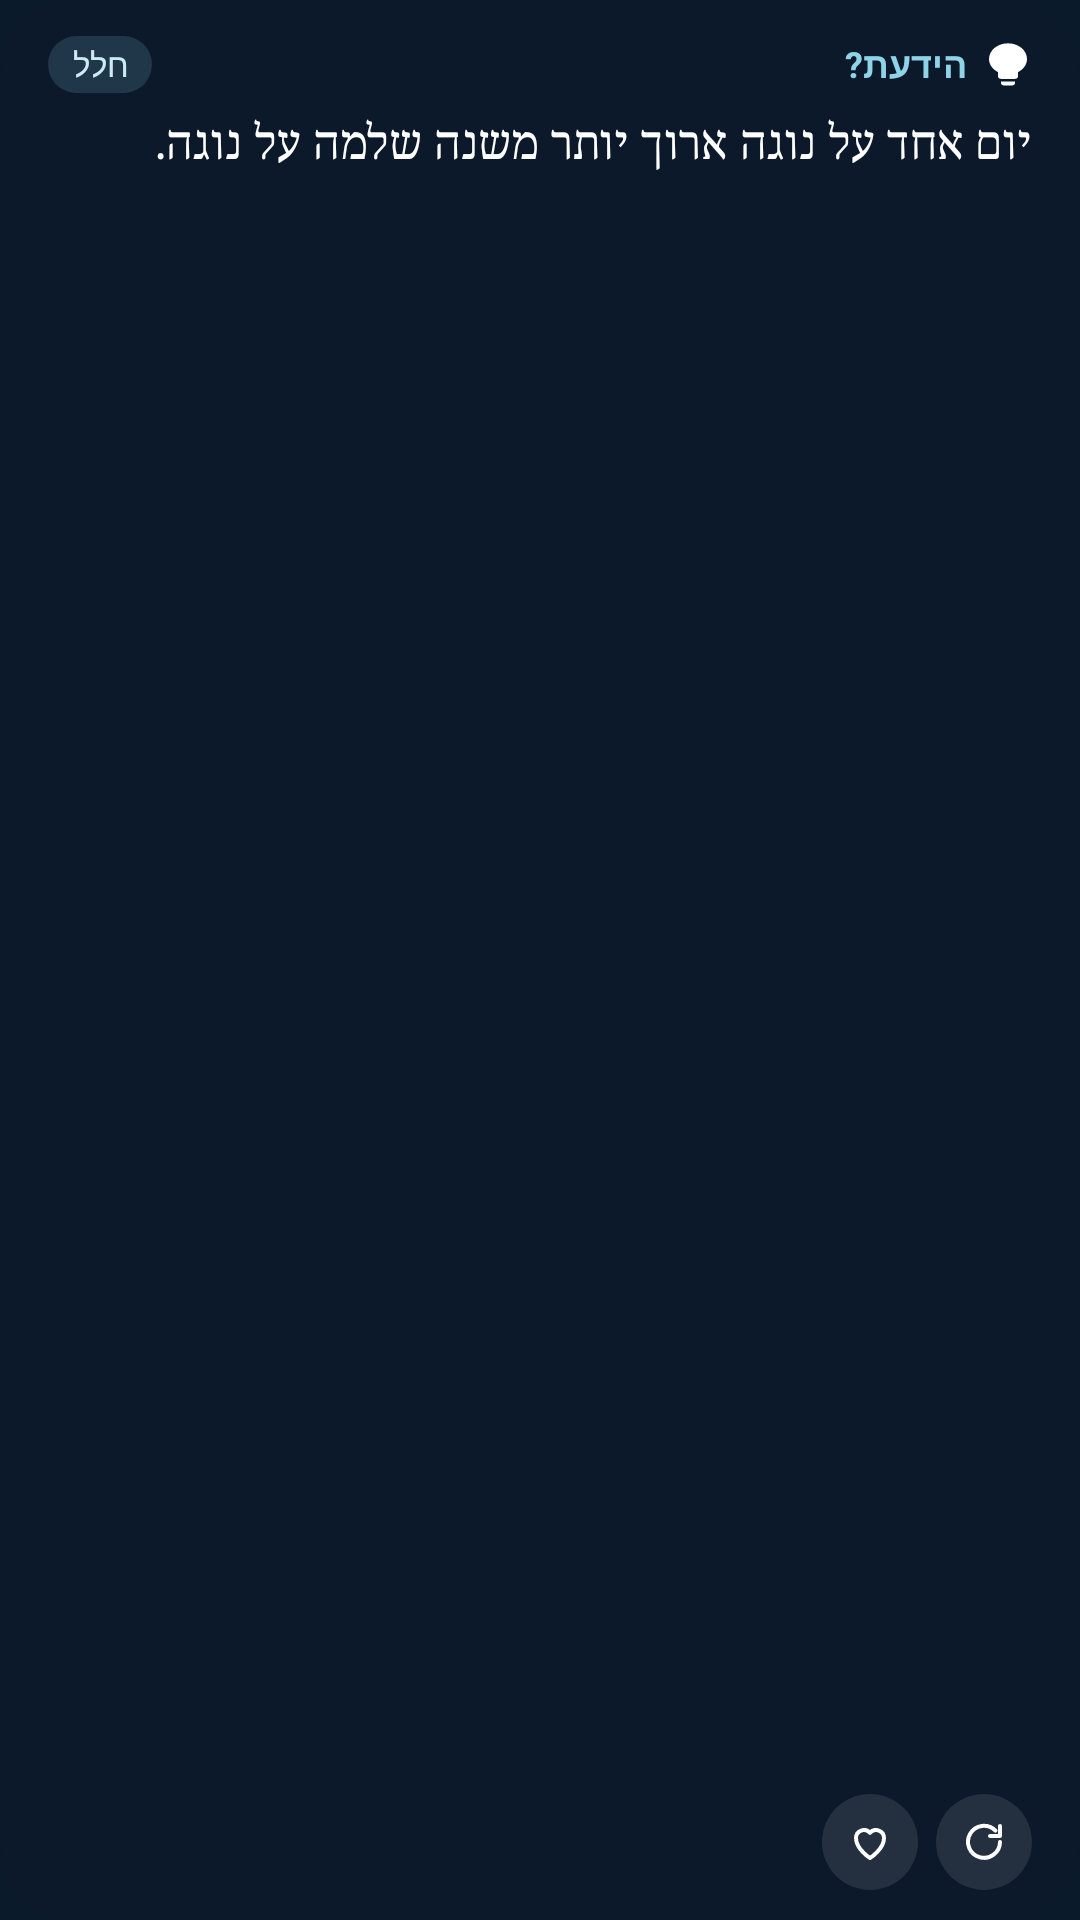

Named icons in this screenshot (1080px×1920px) and their centers, point (x, y):
bulb: point (1008, 64)
עובדה אחרת: point (984, 1842)
שמירה במועדפים: point (870, 1842)
